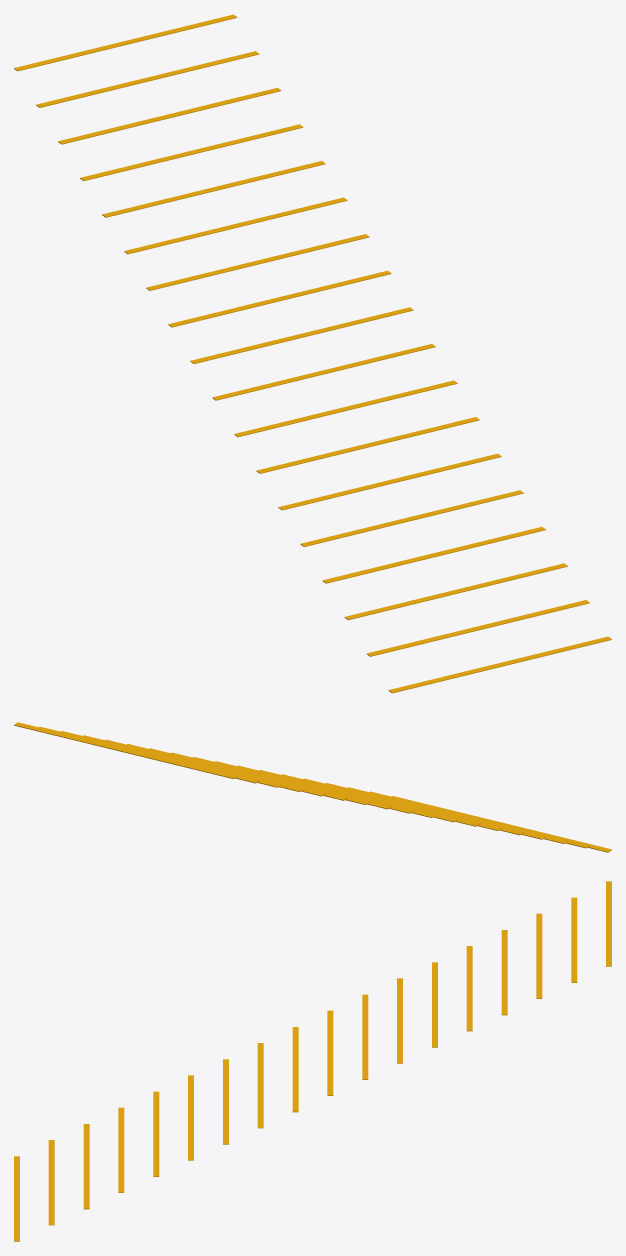
The model's file is gteki_ik_stair_n18_r168_t328_w1904_nosing.glb.
The picture shows the model from 3 angles, top to bottom: view 1: azimuth 30°, elevation 25°; view 2: azimuth 150°, elevation 25°; view 3: azimuth 270°, elevation 25°; orthographic projection. The views are drawn at different scales.
Parts seen in each view (by area): view 1: VIS_body; view 2: VIS_body; view 3: VIS_body.
Boxes of the visible parts, left/top/right/bottom form: VIS_body: left=14, top=14, right=611, bottom=693; VIS_body: left=14, top=722, right=611, bottom=852; VIS_body: left=14, top=881, right=611, bottom=1241.
Size of the model in its own units: 1.89 by 2.86 by 5.63.
Materials: 1 (1 with a texture image).
